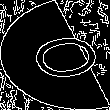O_E: (9, 26, 101, 84)
